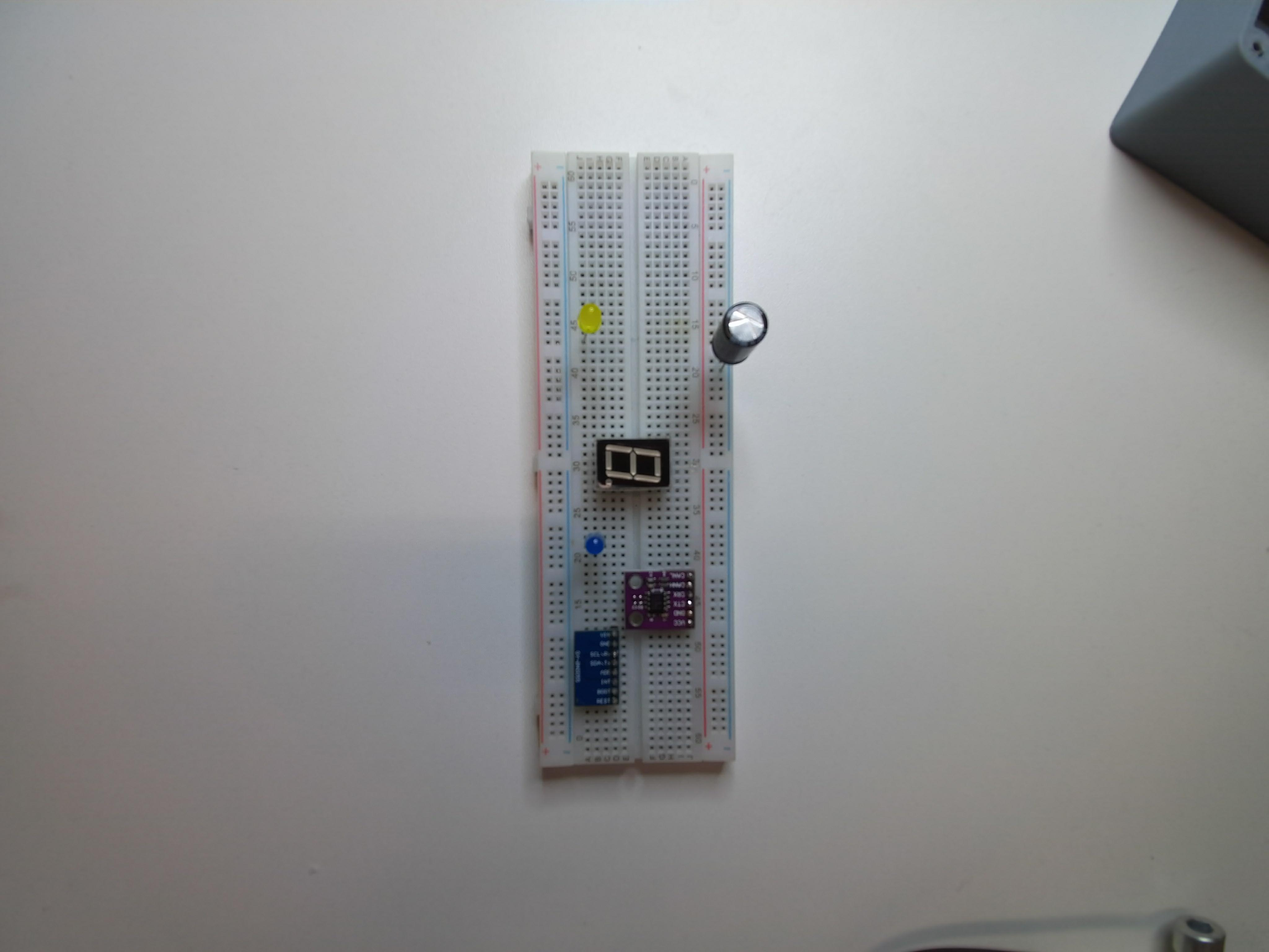base: (518, 149, 760, 789)
blue-board: (570, 628, 625, 710)
blue-led: (585, 536, 604, 556)
capacitor: (709, 299, 770, 371)
digit-board: (594, 436, 674, 492)
purple-board: (623, 569, 695, 635)
yellow-led: (570, 295, 607, 341)
